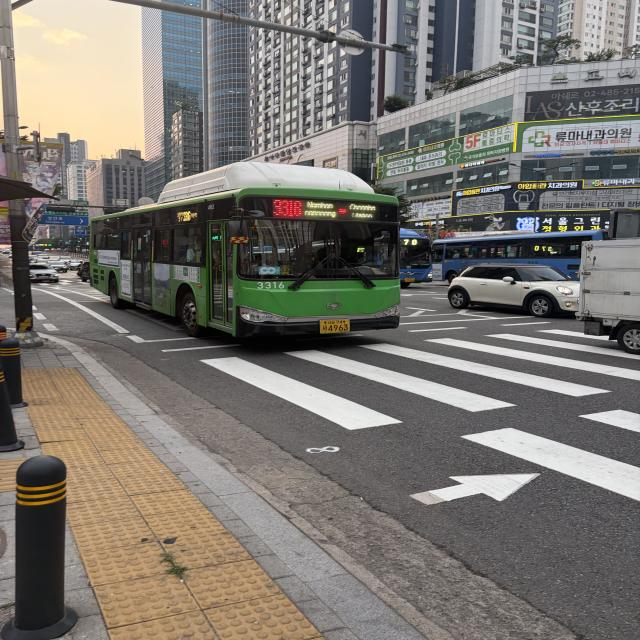car: (75, 148, 431, 377), (438, 248, 590, 328)
